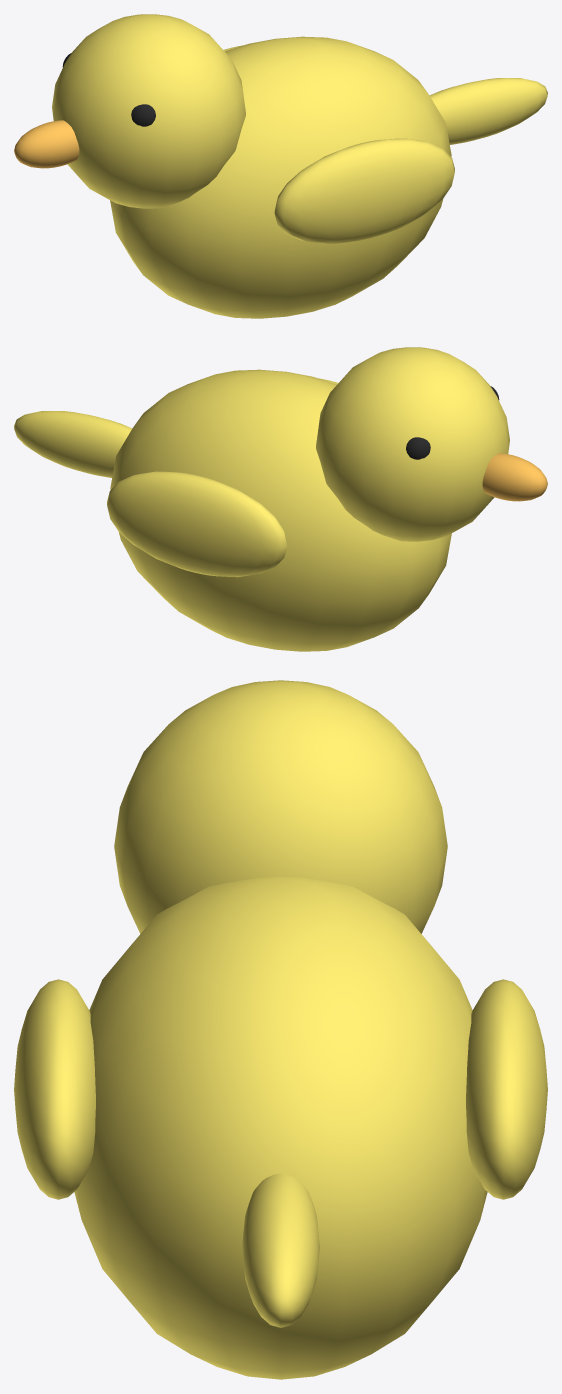
The model's file is canary.glb.
3 views of the same model, one above another, from view 1: azimuth 30°, elevation 25°; view 2: azimuth 150°, elevation 25°; view 3: azimuth 270°, elevation 25° (orthographic). The views are drawn at different scales.
Parts seen in each view (by area): view 1: canary; view 2: canary; view 3: canary.
Boxes of the visible parts, x1=… form: canary: x1=14, y1=14, x2=547, y2=318; canary: x1=14, y1=347, x2=547, y2=651; canary: x1=14, y1=680, x2=547, y2=1379.
Bounding box in the file's own units: 0.566 × 0.32 × 0.288.
